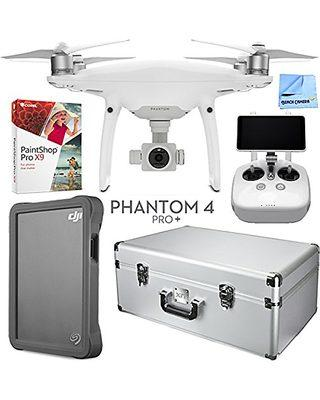drone: (4, 30, 312, 138)
